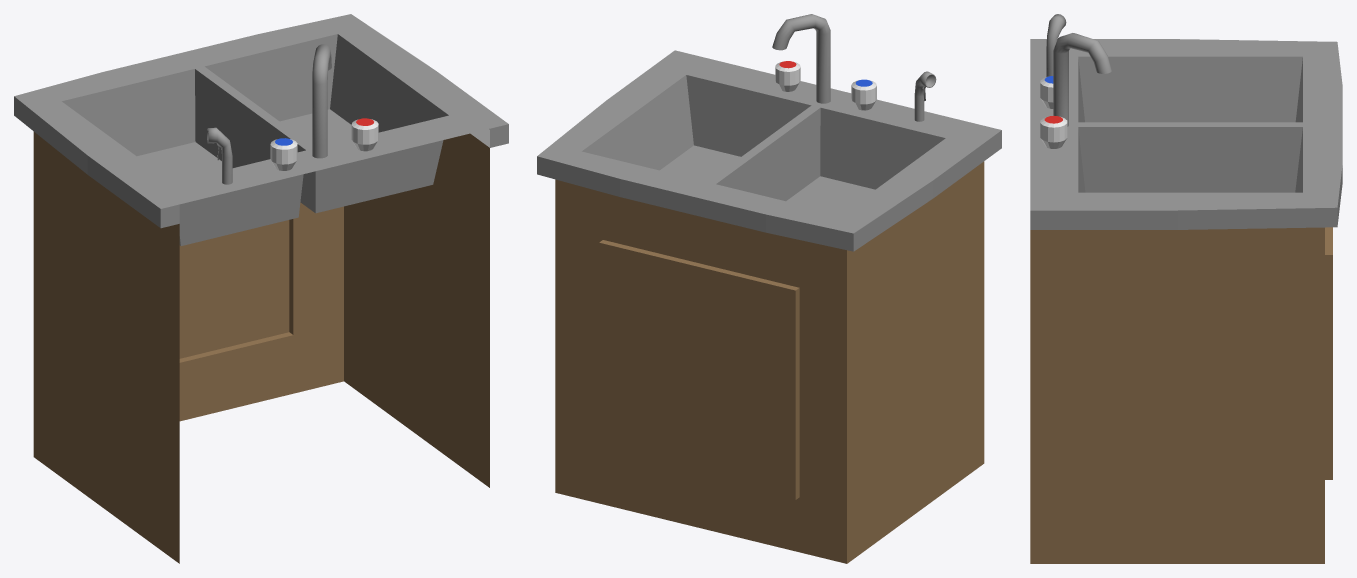
Rendered from sink.glb.
3 renders of one model, left to right at view 1: azimuth 30°, elevation 25°; view 2: azimuth 150°, elevation 25°; view 3: azimuth 270°, elevation 25°, orthographic. The views are drawn at different scales.
Parts seen in each view (by area): view 1: kitchen sink; view 2: kitchen sink; view 3: kitchen sink.
Part boxes in pixels (x1=…): kitchen sink: x1=14, y1=14, x2=508, y2=563; kitchen sink: x1=537, y1=14, x2=1001, y2=563; kitchen sink: x1=1030, y1=14, x2=1342, y2=563.
Bounding box in the file's own units: 1.07 × 1.33 × 0.8236.
